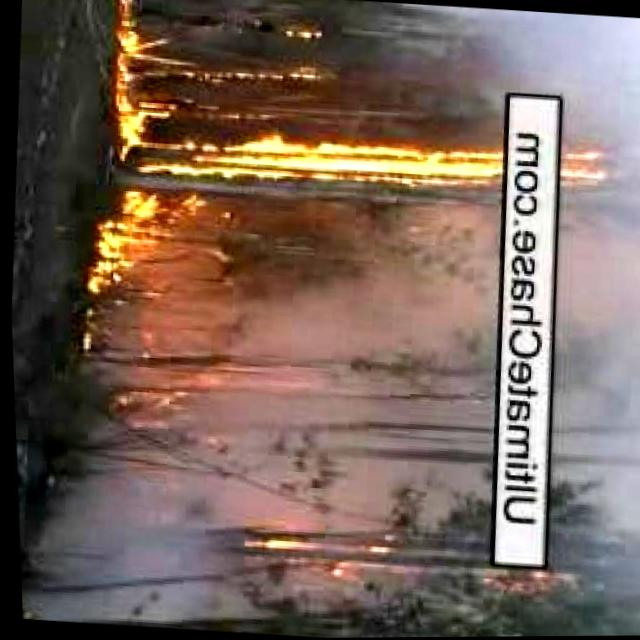Fire: (116, 125, 503, 187), (86, 197, 209, 305), (108, 0, 157, 88)
Smoke: (183, 167, 505, 627), (524, 12, 640, 626)
